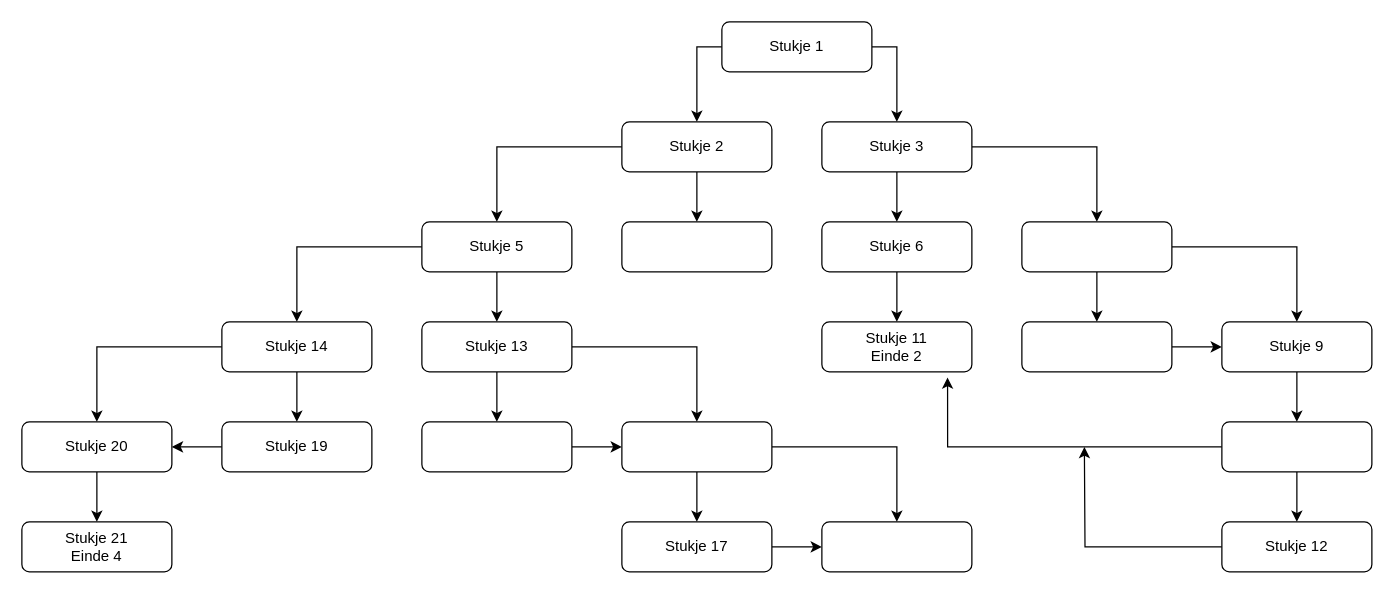
This 1394x594 diagram has some shape labels left out. Here are the shapes that lost their labels. From the top down, the box of each, then its label:
(621, 221, 772, 272): Stukje 4 Einde 1
(1021, 221, 1172, 272): Stukje 7
(1021, 321, 1172, 372): Stukje 8
(421, 421, 572, 472): Stukje 15
(621, 421, 772, 472): Stukje 16
(1221, 421, 1372, 472): Stukje 10
(821, 521, 972, 572): Stukje 18 Einde 3
